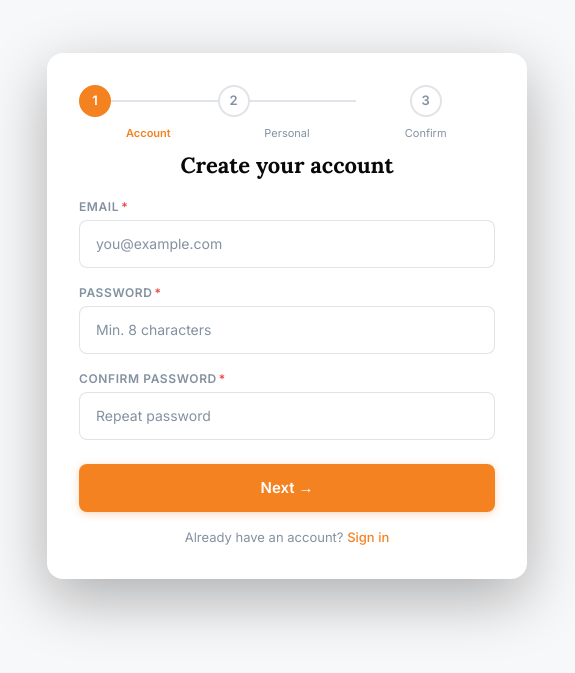
Register component › shows password too short error
Type "a@b.com" into the field with placeholder "you@example.com".
click(287, 244); type("a@b.com")  # box 79,220 -> 495,268
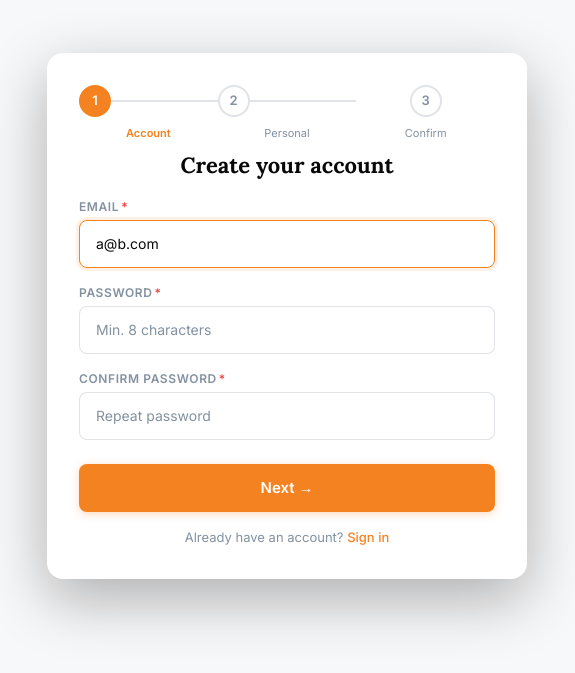
Type "abc" into the password field with placeholder "Min. 8 characters".
click(287, 330); type("abc")  # box 79,306 -> 495,354
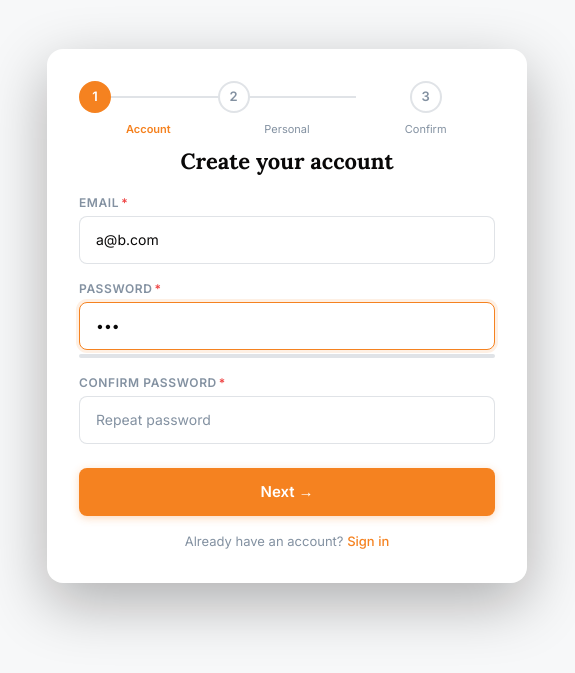
Click the button "Next →".
click(287, 492)  # box 79,468 -> 495,516
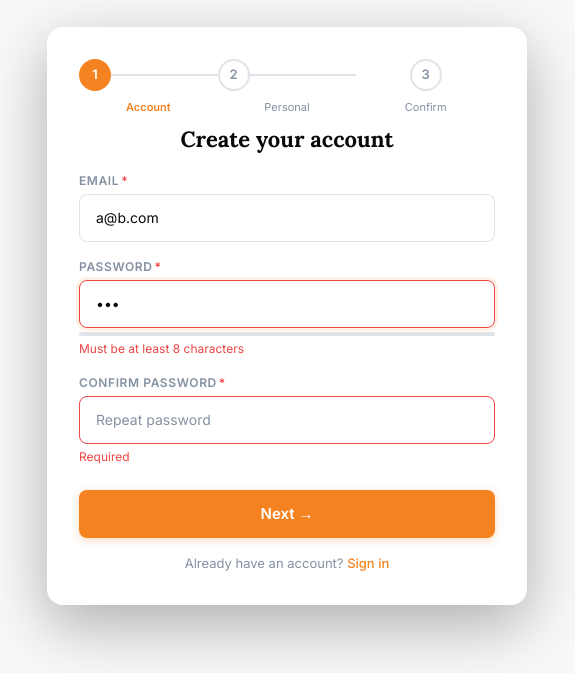
Expected: the text "Must be at least 8 characters" is shown, 79,341 -> 244,356
